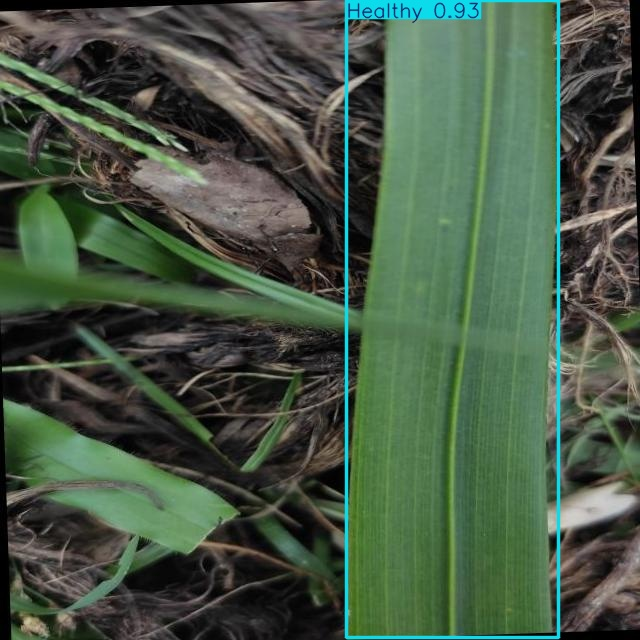Healthy: (347, 0, 558, 637)
